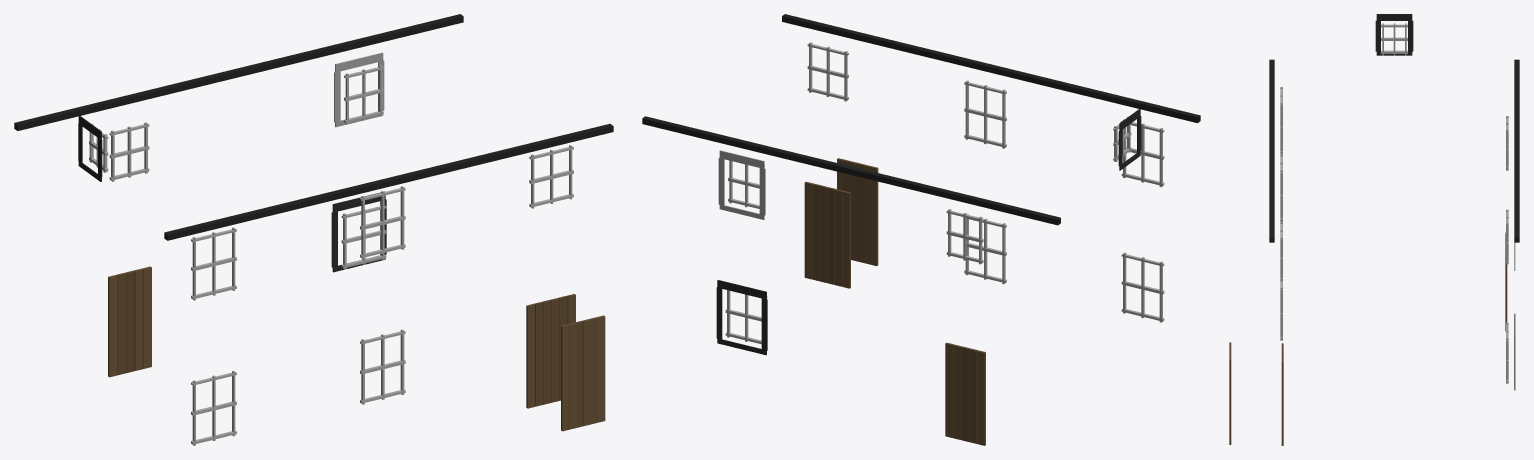
Rendered from SM_Bld_120_Wood.glb.
The picture shows the model from 3 angles, left to right: view 1: azimuth 30°, elevation 25°; view 2: azimuth 150°, elevation 25°; view 3: azimuth 270°, elevation 25°; orthographic projection. The views are drawn at different scales.
Visible parts, largest first — view 1: SM_Bld_120_Wood; view 2: SM_Bld_120_Wood; view 3: SM_Bld_120_Wood.
Boxes of the visible parts, x1=… form: SM_Bld_120_Wood: x1=14, y1=14, x2=613, y2=445; SM_Bld_120_Wood: x1=642, y1=14, x2=1200, y2=445; SM_Bld_120_Wood: x1=1229, y1=14, x2=1519, y2=445.
Bounding box in the file's own units: 9.39 × 6.51 × 6.46.
